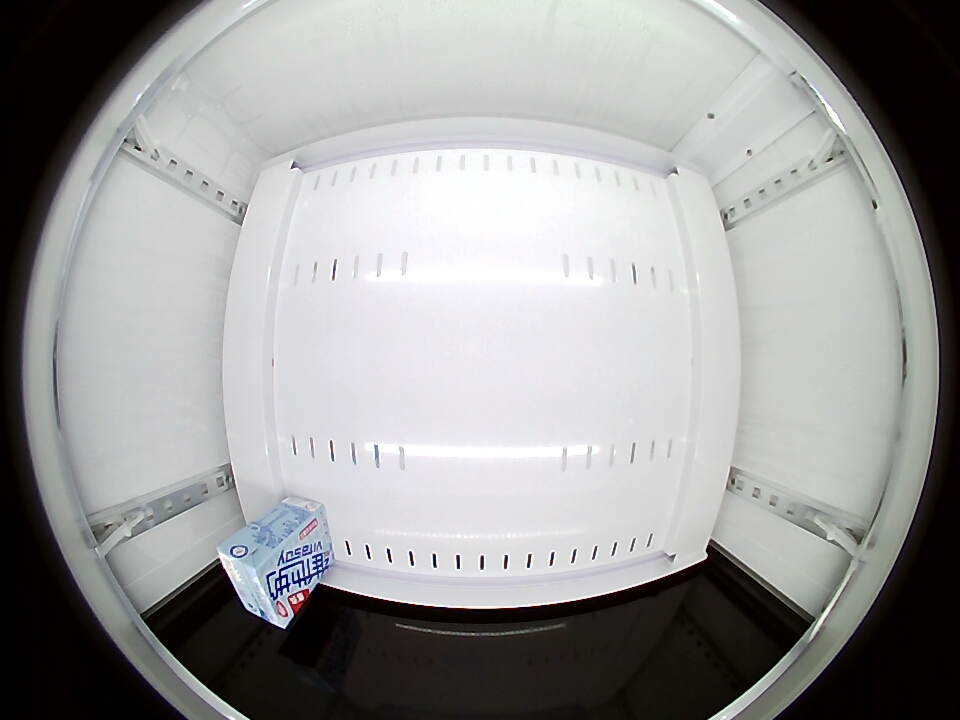weitanaiditang: (215, 530, 300, 629)
